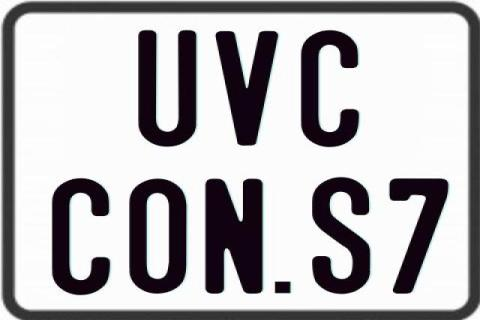0: (387, 178, 452, 296), (128, 177, 187, 297)
C: (300, 29, 362, 150), (49, 176, 107, 293)
N: (203, 176, 262, 294)
S: (310, 176, 374, 294)
U: (135, 31, 195, 147)
V: (215, 29, 282, 149)
